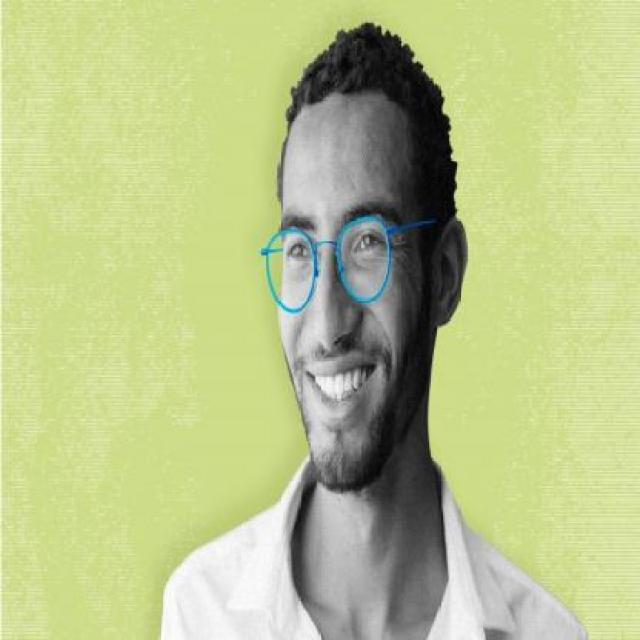glasses: (255, 212, 433, 308)
